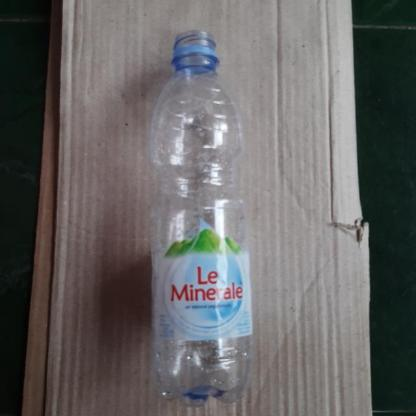Plastic Bottle: (126, 8, 260, 416)
